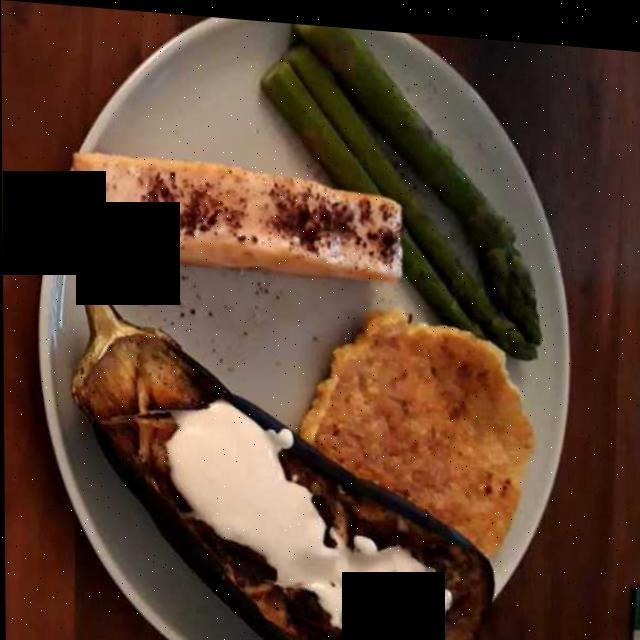asparagus: (274, 23, 536, 346)
eggplant: (74, 312, 499, 640)
salmon: (71, 147, 403, 278)
